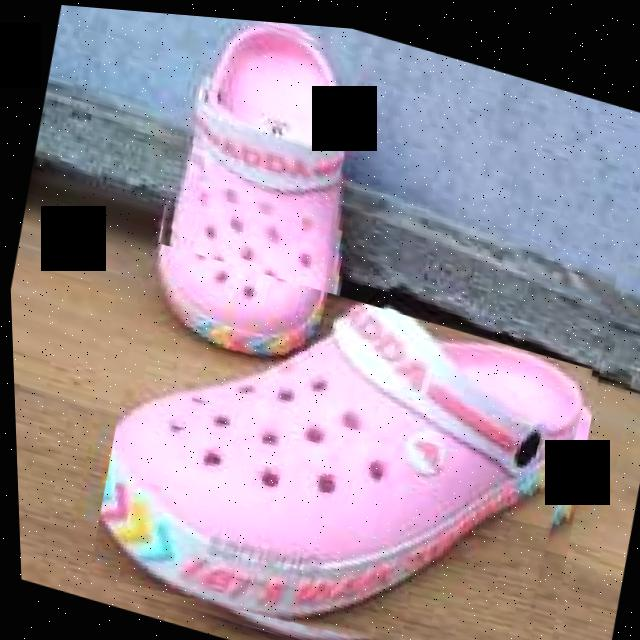shoe: (66, 4, 640, 640), (74, 233, 601, 640), (138, 9, 371, 379)
